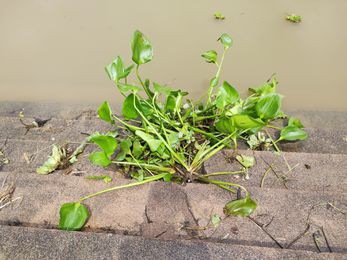water_hyacinth: (80, 28, 309, 189)
